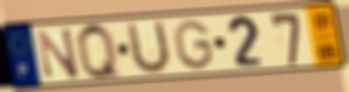2: (225, 13, 270, 71)
7: (268, 11, 302, 67)
G: (170, 18, 216, 71)
N: (35, 26, 82, 80)
Q: (74, 21, 125, 81)
U: (125, 19, 173, 77)
